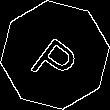P_NE: (25, 24, 85, 86)
